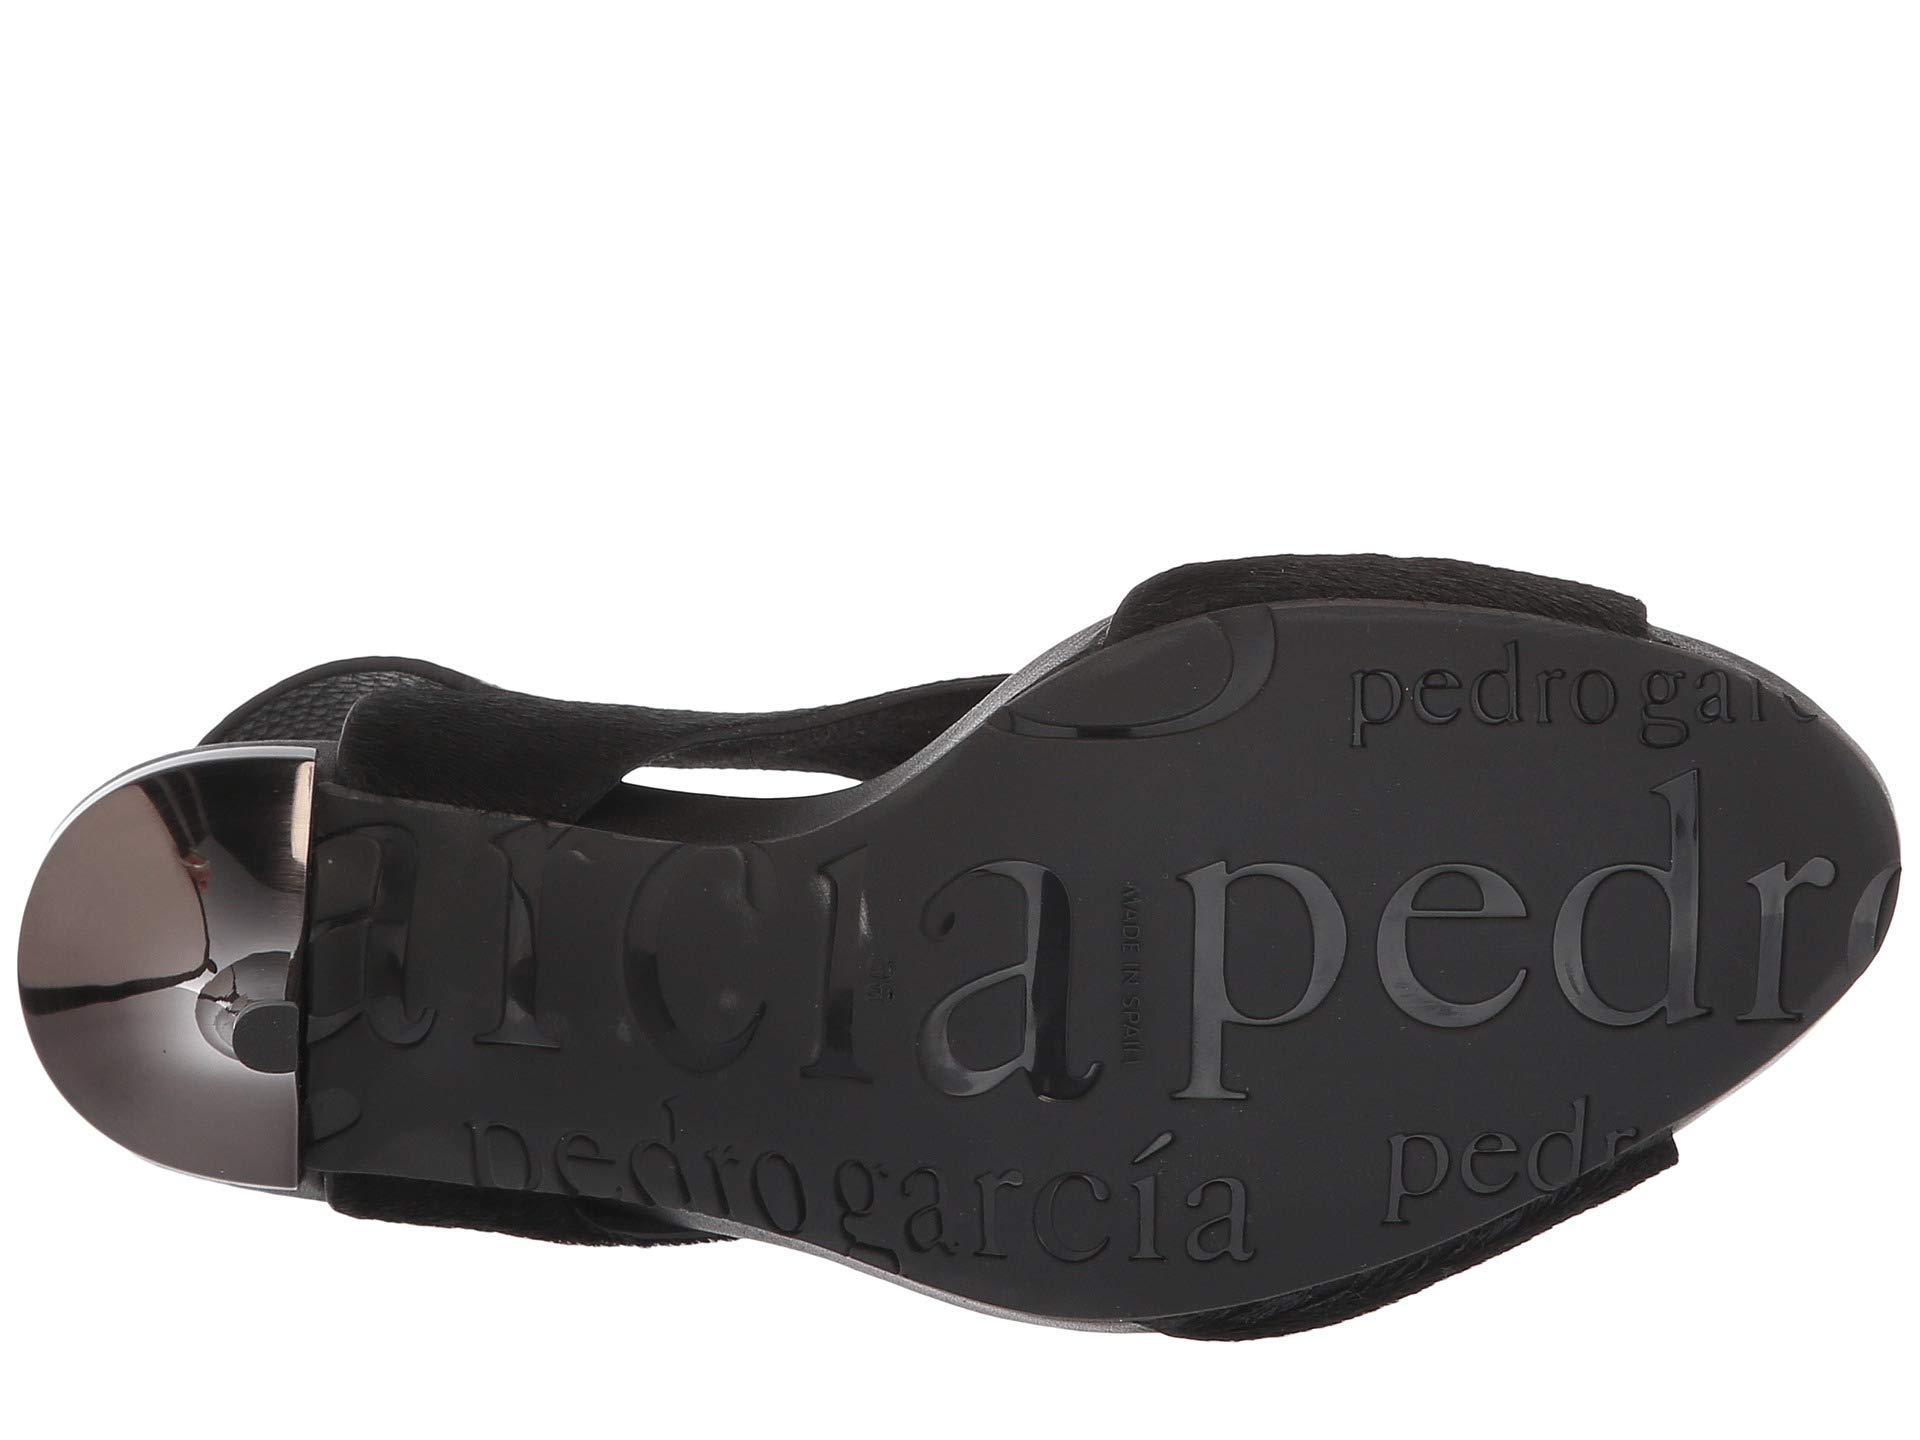exclude: (14, 502, 860, 1336)
text: (875, 812, 1395, 1281), (1389, 641, 1807, 1075), (1380, 1091, 1596, 1243)
